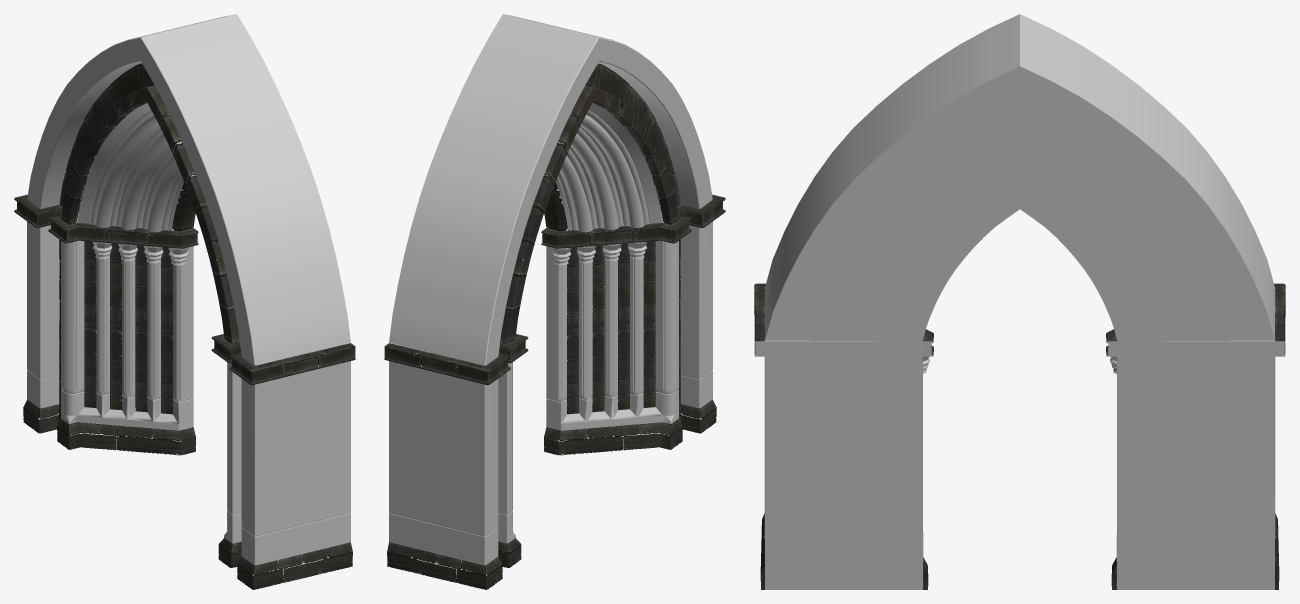
3 renders of one model, left to right at view 1: azimuth 30°, elevation 25°; view 2: azimuth 150°, elevation 25°; view 3: azimuth 270°, elevation 25°, orthographic. The views are drawn at different scales.
Visible parts, largest first — view 1: SM_Greathall_Doorway_01_LOD0; view 2: SM_Greathall_Doorway_01_LOD0; view 3: SM_Greathall_Doorway_01_LOD0.
Boxes of the visible parts, x1,y1,x2,y2 form: SM_Greathall_Doorway_01_LOD0: [14, 14, 355, 589]; SM_Greathall_Doorway_01_LOD0: [384, 14, 725, 589]; SM_Greathall_Doorway_01_LOD0: [754, 14, 1285, 589].
Bounding box in the file's own units: 2.71 × 11.59 × 10.66.
